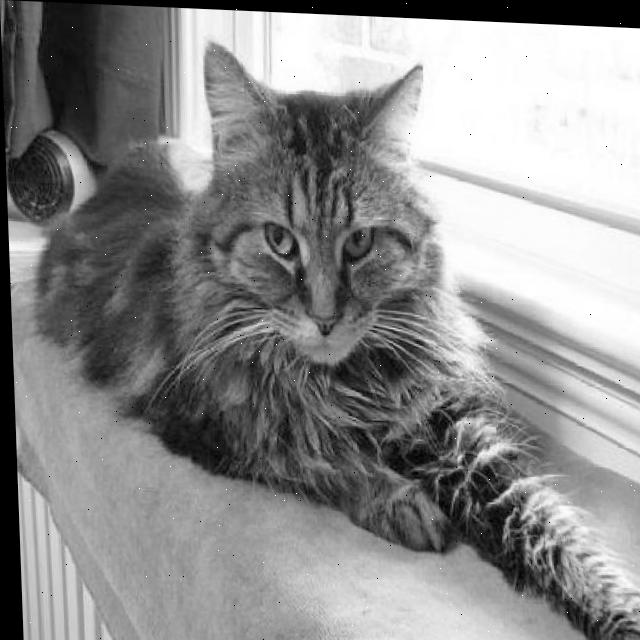Cat: (32, 31, 640, 640)
